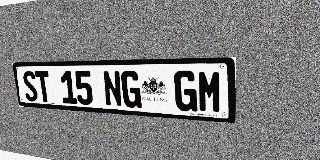1: (59, 71, 78, 104)
5: (74, 71, 94, 105)
G: (174, 70, 197, 112), (121, 71, 142, 108)
M: (198, 70, 222, 113)
N: (102, 71, 123, 107)
S: (22, 71, 39, 102)
T: (35, 71, 52, 103)
